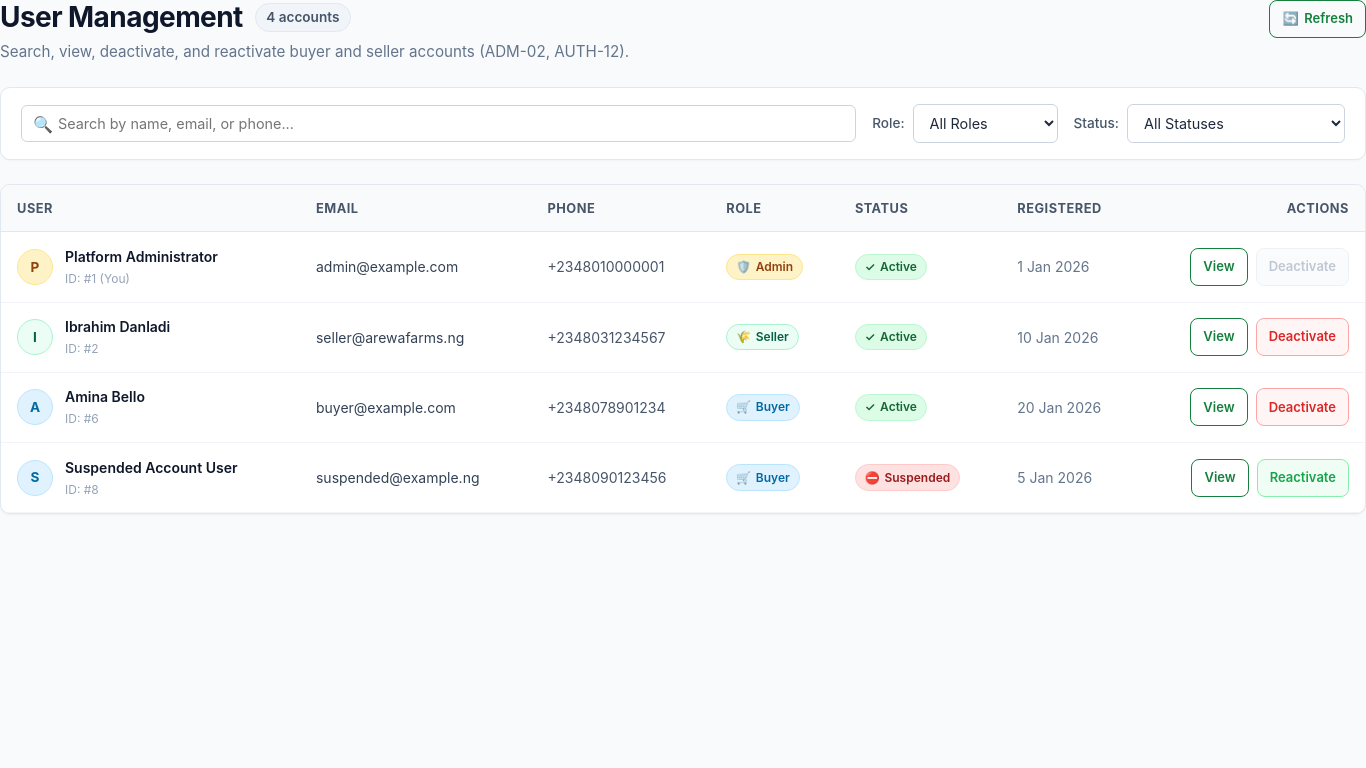
Scenario: FE-097 / ADM-02: Admin Users Management Page › 3. View User Account Modal (Figma Section 14) › opens view user modal with comprehensive profile details
The width and height of the screenshot is (1366, 768).
# Click "View" for seller Ibrahim Danladi
Click the button with test id "view-user-btn-2". click: point(1219, 337)
box: [1190,318,1248,356]
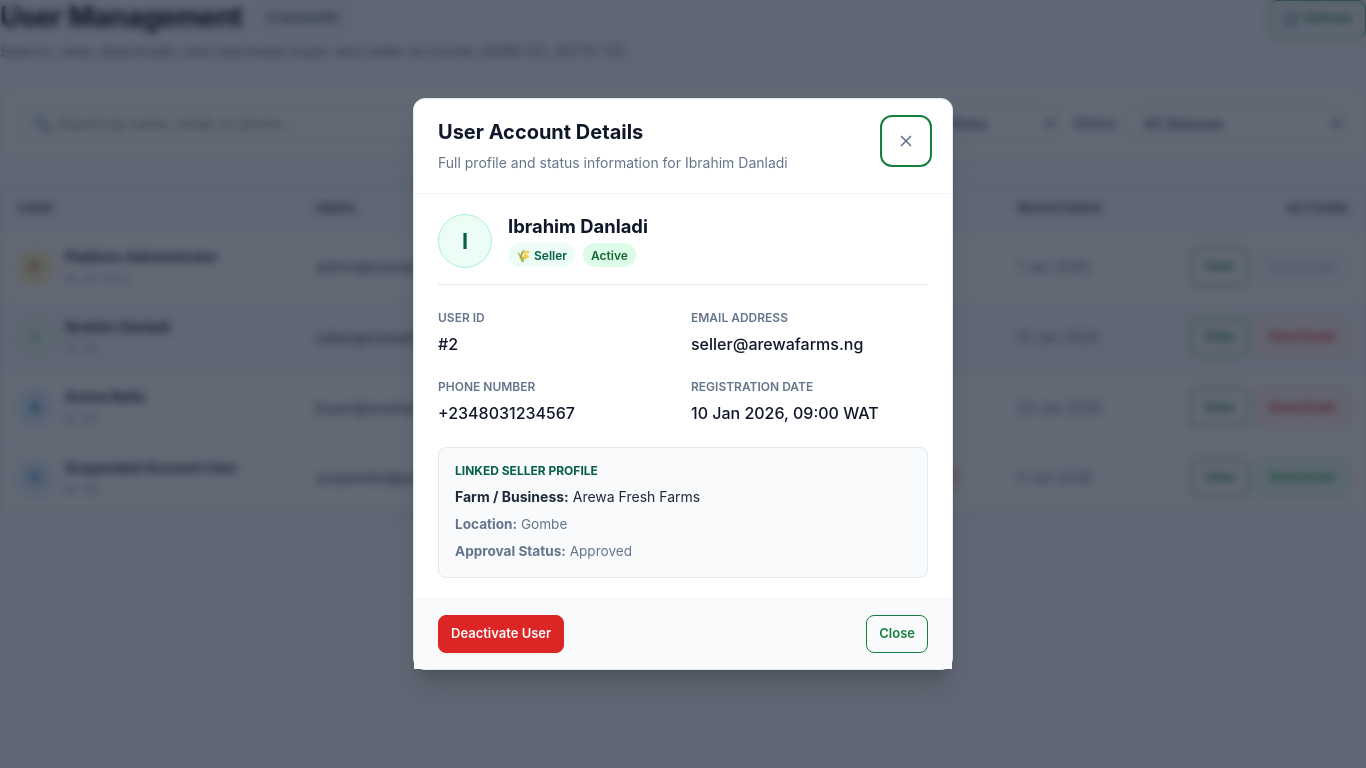
Expected: the dialog with test id "view-user-modal" is shown, [413,98,953,670]
Expected: the heading with test id "modal-user-name" reads "Ibrahim Danladi", [508,215,648,237]
Expected: the text with test id "modal-user-id" reads "#2", [438,334,458,354]
# Close modal
Click the button with test id "modal-close-btn". click: point(897, 634)
box: [866,615,928,653]
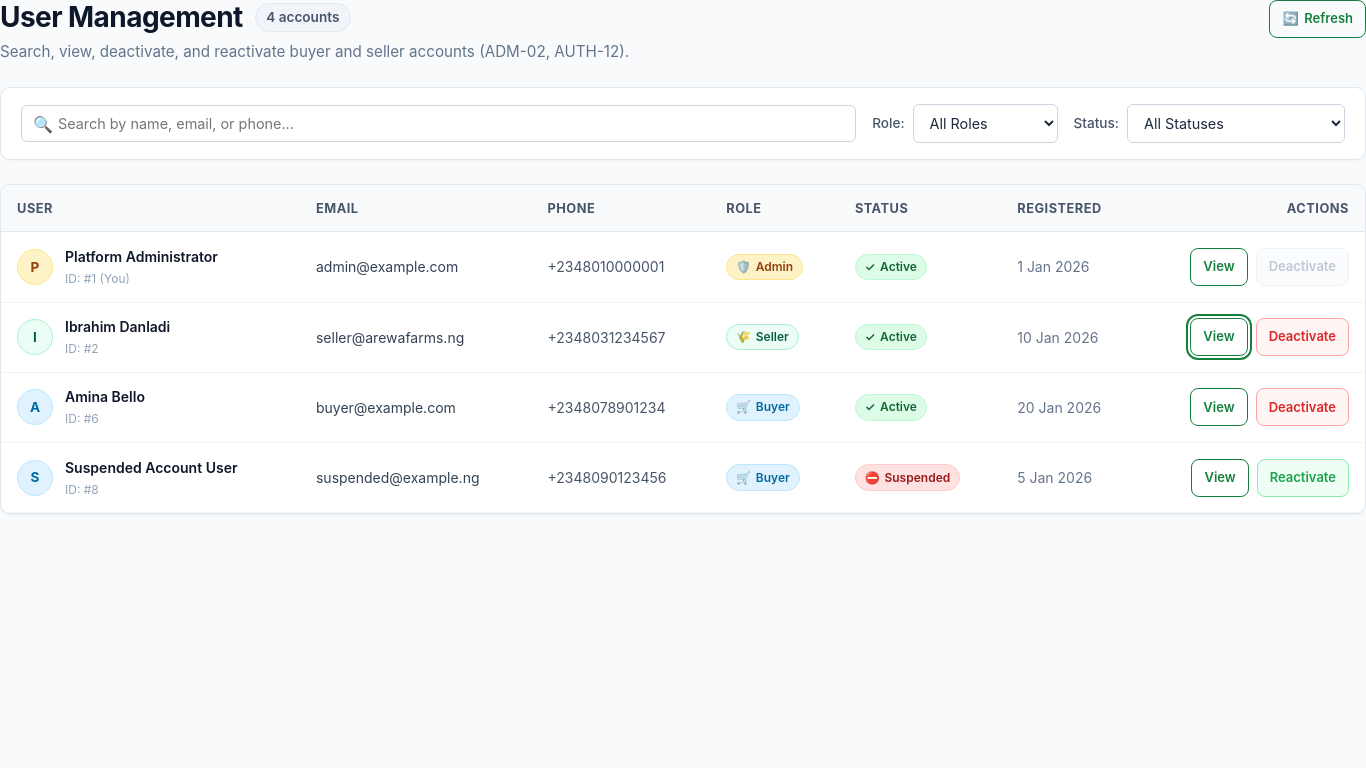
Expected: the dialog with test id "view-user-modal" is gone
